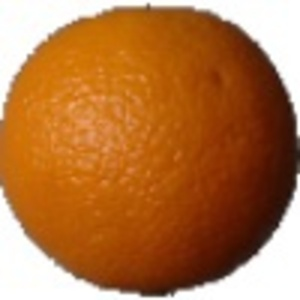laranja: (1, 2, 299, 299)
